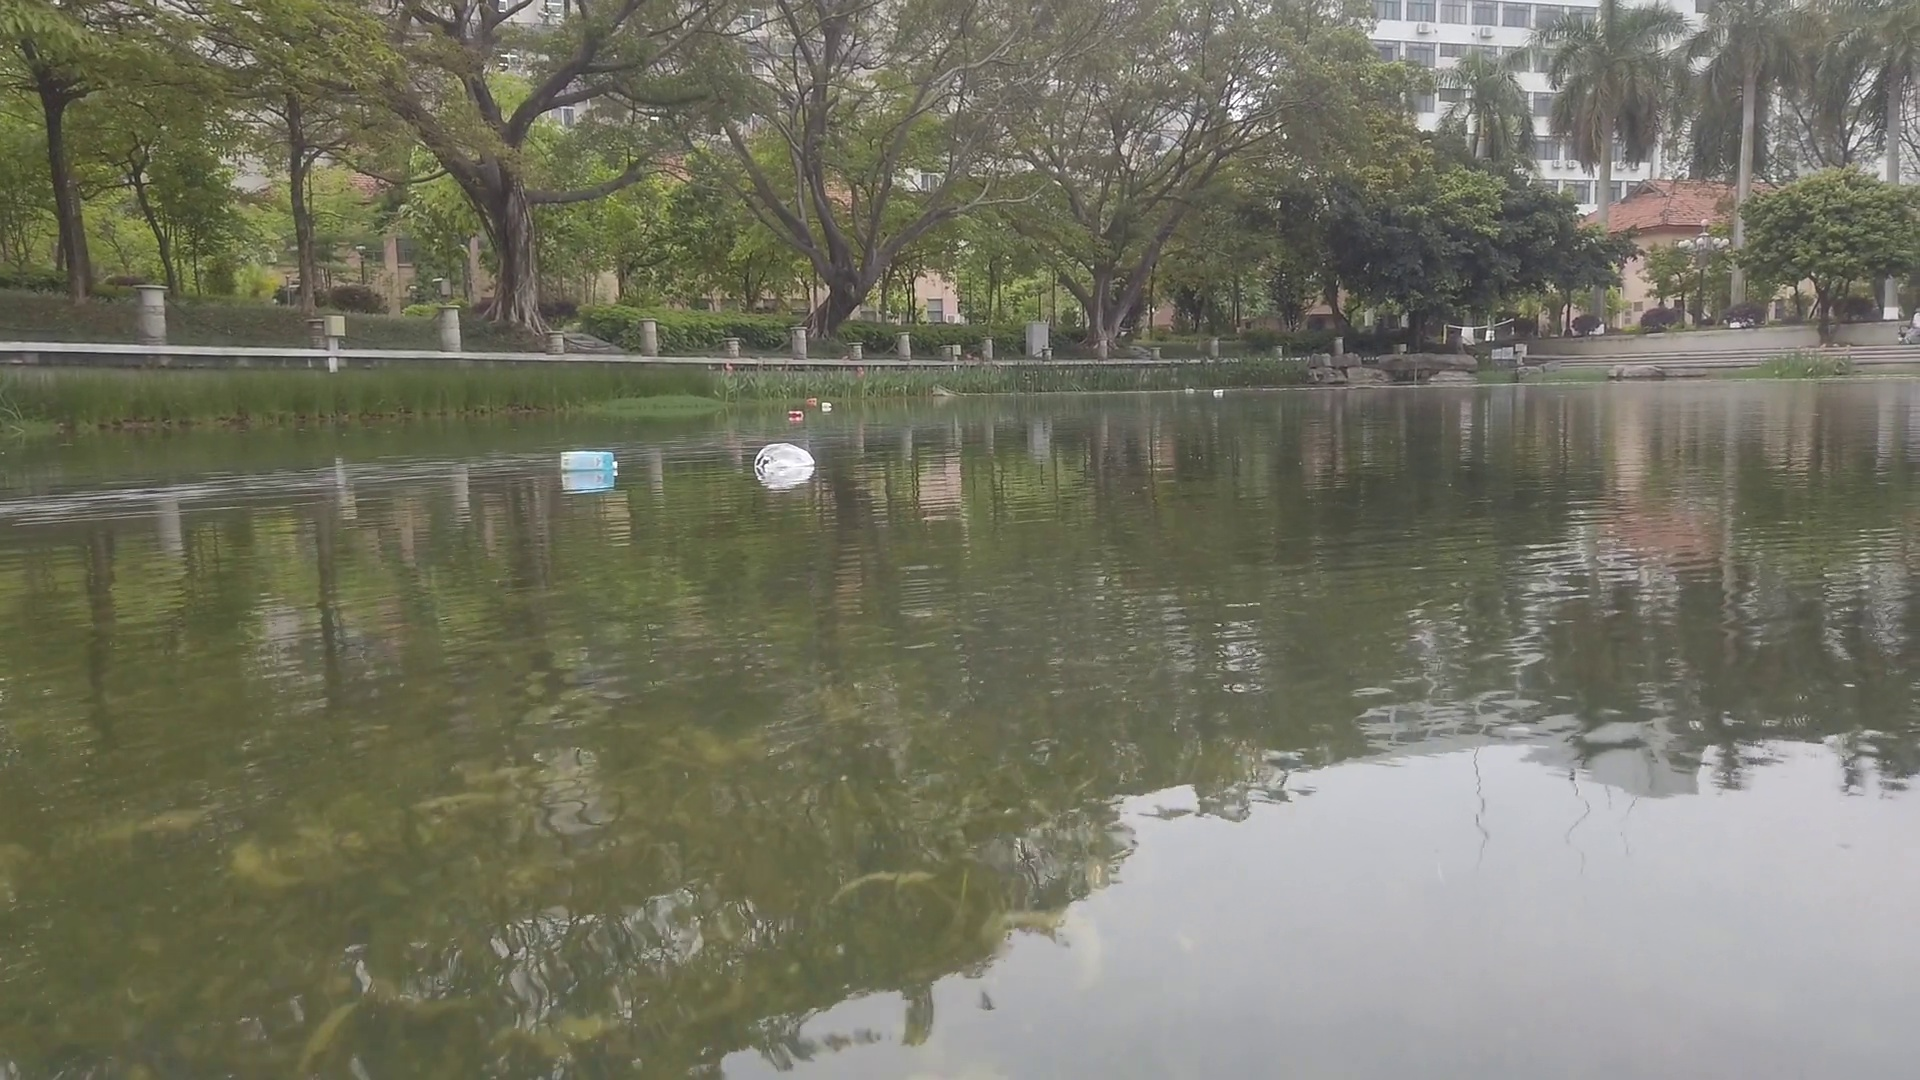bottle: (789, 410, 804, 417), (823, 401, 833, 409), (808, 397, 818, 404), (1185, 386, 1195, 393), (1215, 390, 1224, 396)
carton: (559, 450, 618, 472)
plastic: (756, 440, 815, 469)
